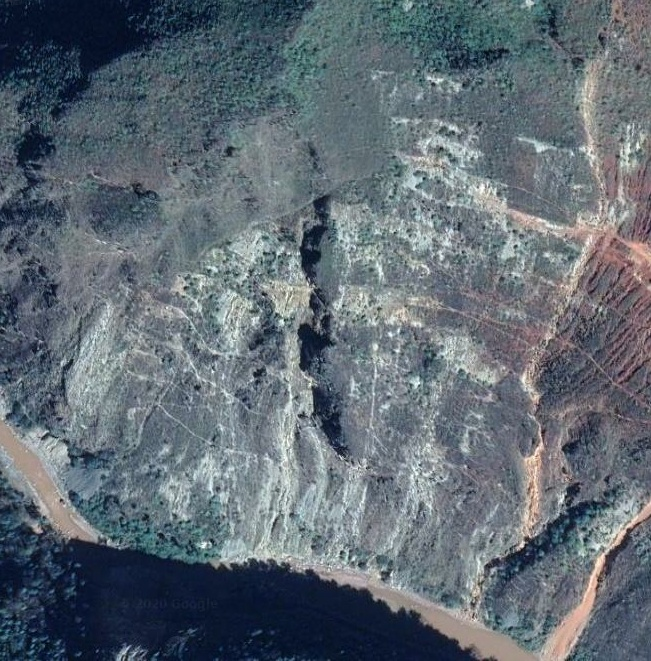slope: (534, 497, 650, 660)
